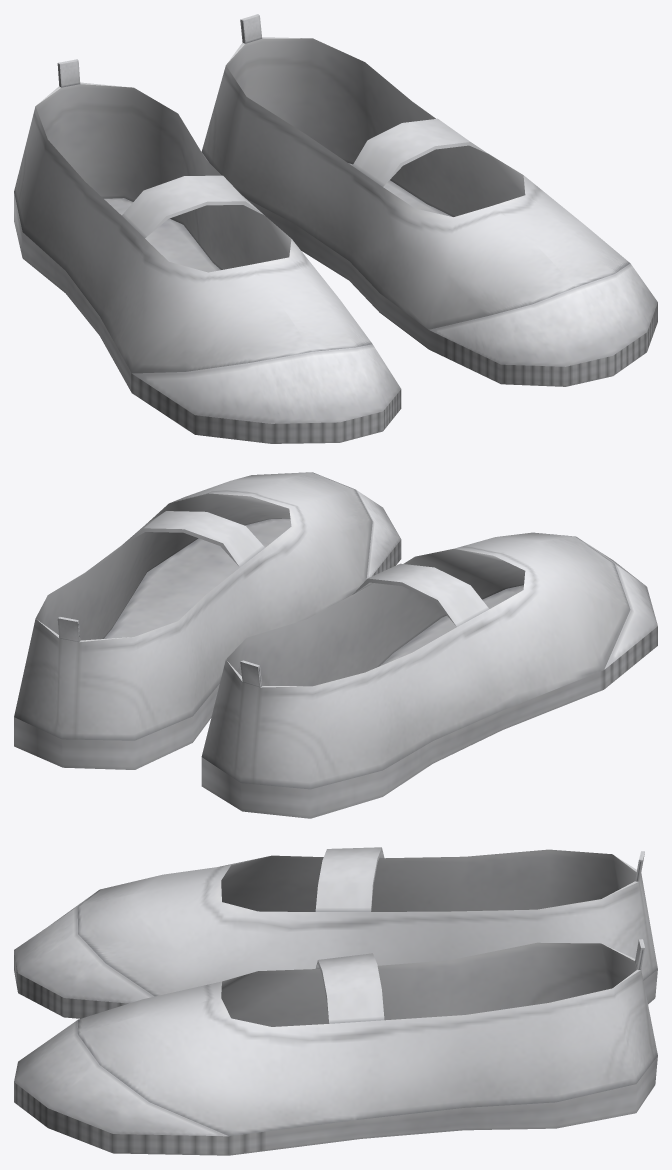
The model's file is set_indoorshoes_06_a.fbx.
3 views of the same model, one above another, from view 1: azimuth 30°, elevation 25°; view 2: azimuth 150°, elevation 25°; view 3: azimuth 270°, elevation 25° (orthographic).
Visible parts, largest first — view 1: indoorshoes_06_a_R, indoorshoes_06_a_L; view 2: indoorshoes_06_a_L, indoorshoes_06_a_R; view 3: indoorshoes_06_a_R, indoorshoes_06_a_L.
Boxes of the visible parts, left/top/right/bottom form: indoorshoes_06_a_R: left=201, top=14, right=657, bottom=386; indoorshoes_06_a_L: left=14, top=59, right=401, bottom=443; indoorshoes_06_a_L: left=201, top=532, right=657, bottom=818; indoorshoes_06_a_R: left=14, top=472, right=401, bottom=769; indoorshoes_06_a_R: left=14, top=939, right=657, bottom=1155; indoorshoes_06_a_L: left=14, top=847, right=657, bottom=1018.
Bounding box in the file's own units: 21.31 × 6.18 × 25.41.
